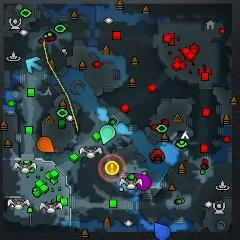Other: (106, 160, 119, 175)
p1: (154, 223, 171, 240)
p2: (100, 125, 115, 144)
p3: (133, 173, 152, 191)
p5: (37, 137, 55, 153)
x3: (25, 56, 42, 73)
